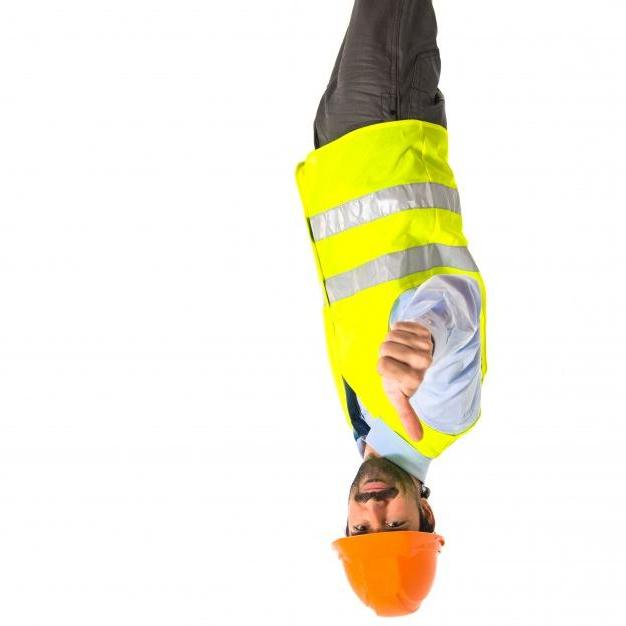thumbsdown: (376, 322, 434, 443)
